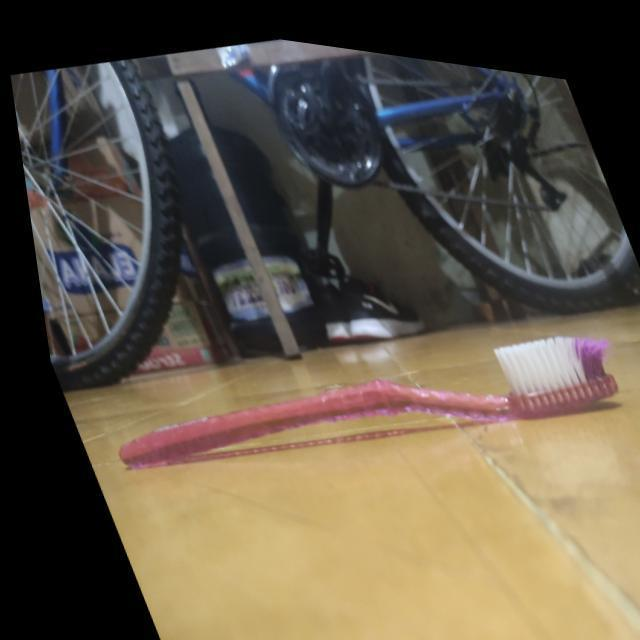toothbrush: (52, 237, 640, 566)
